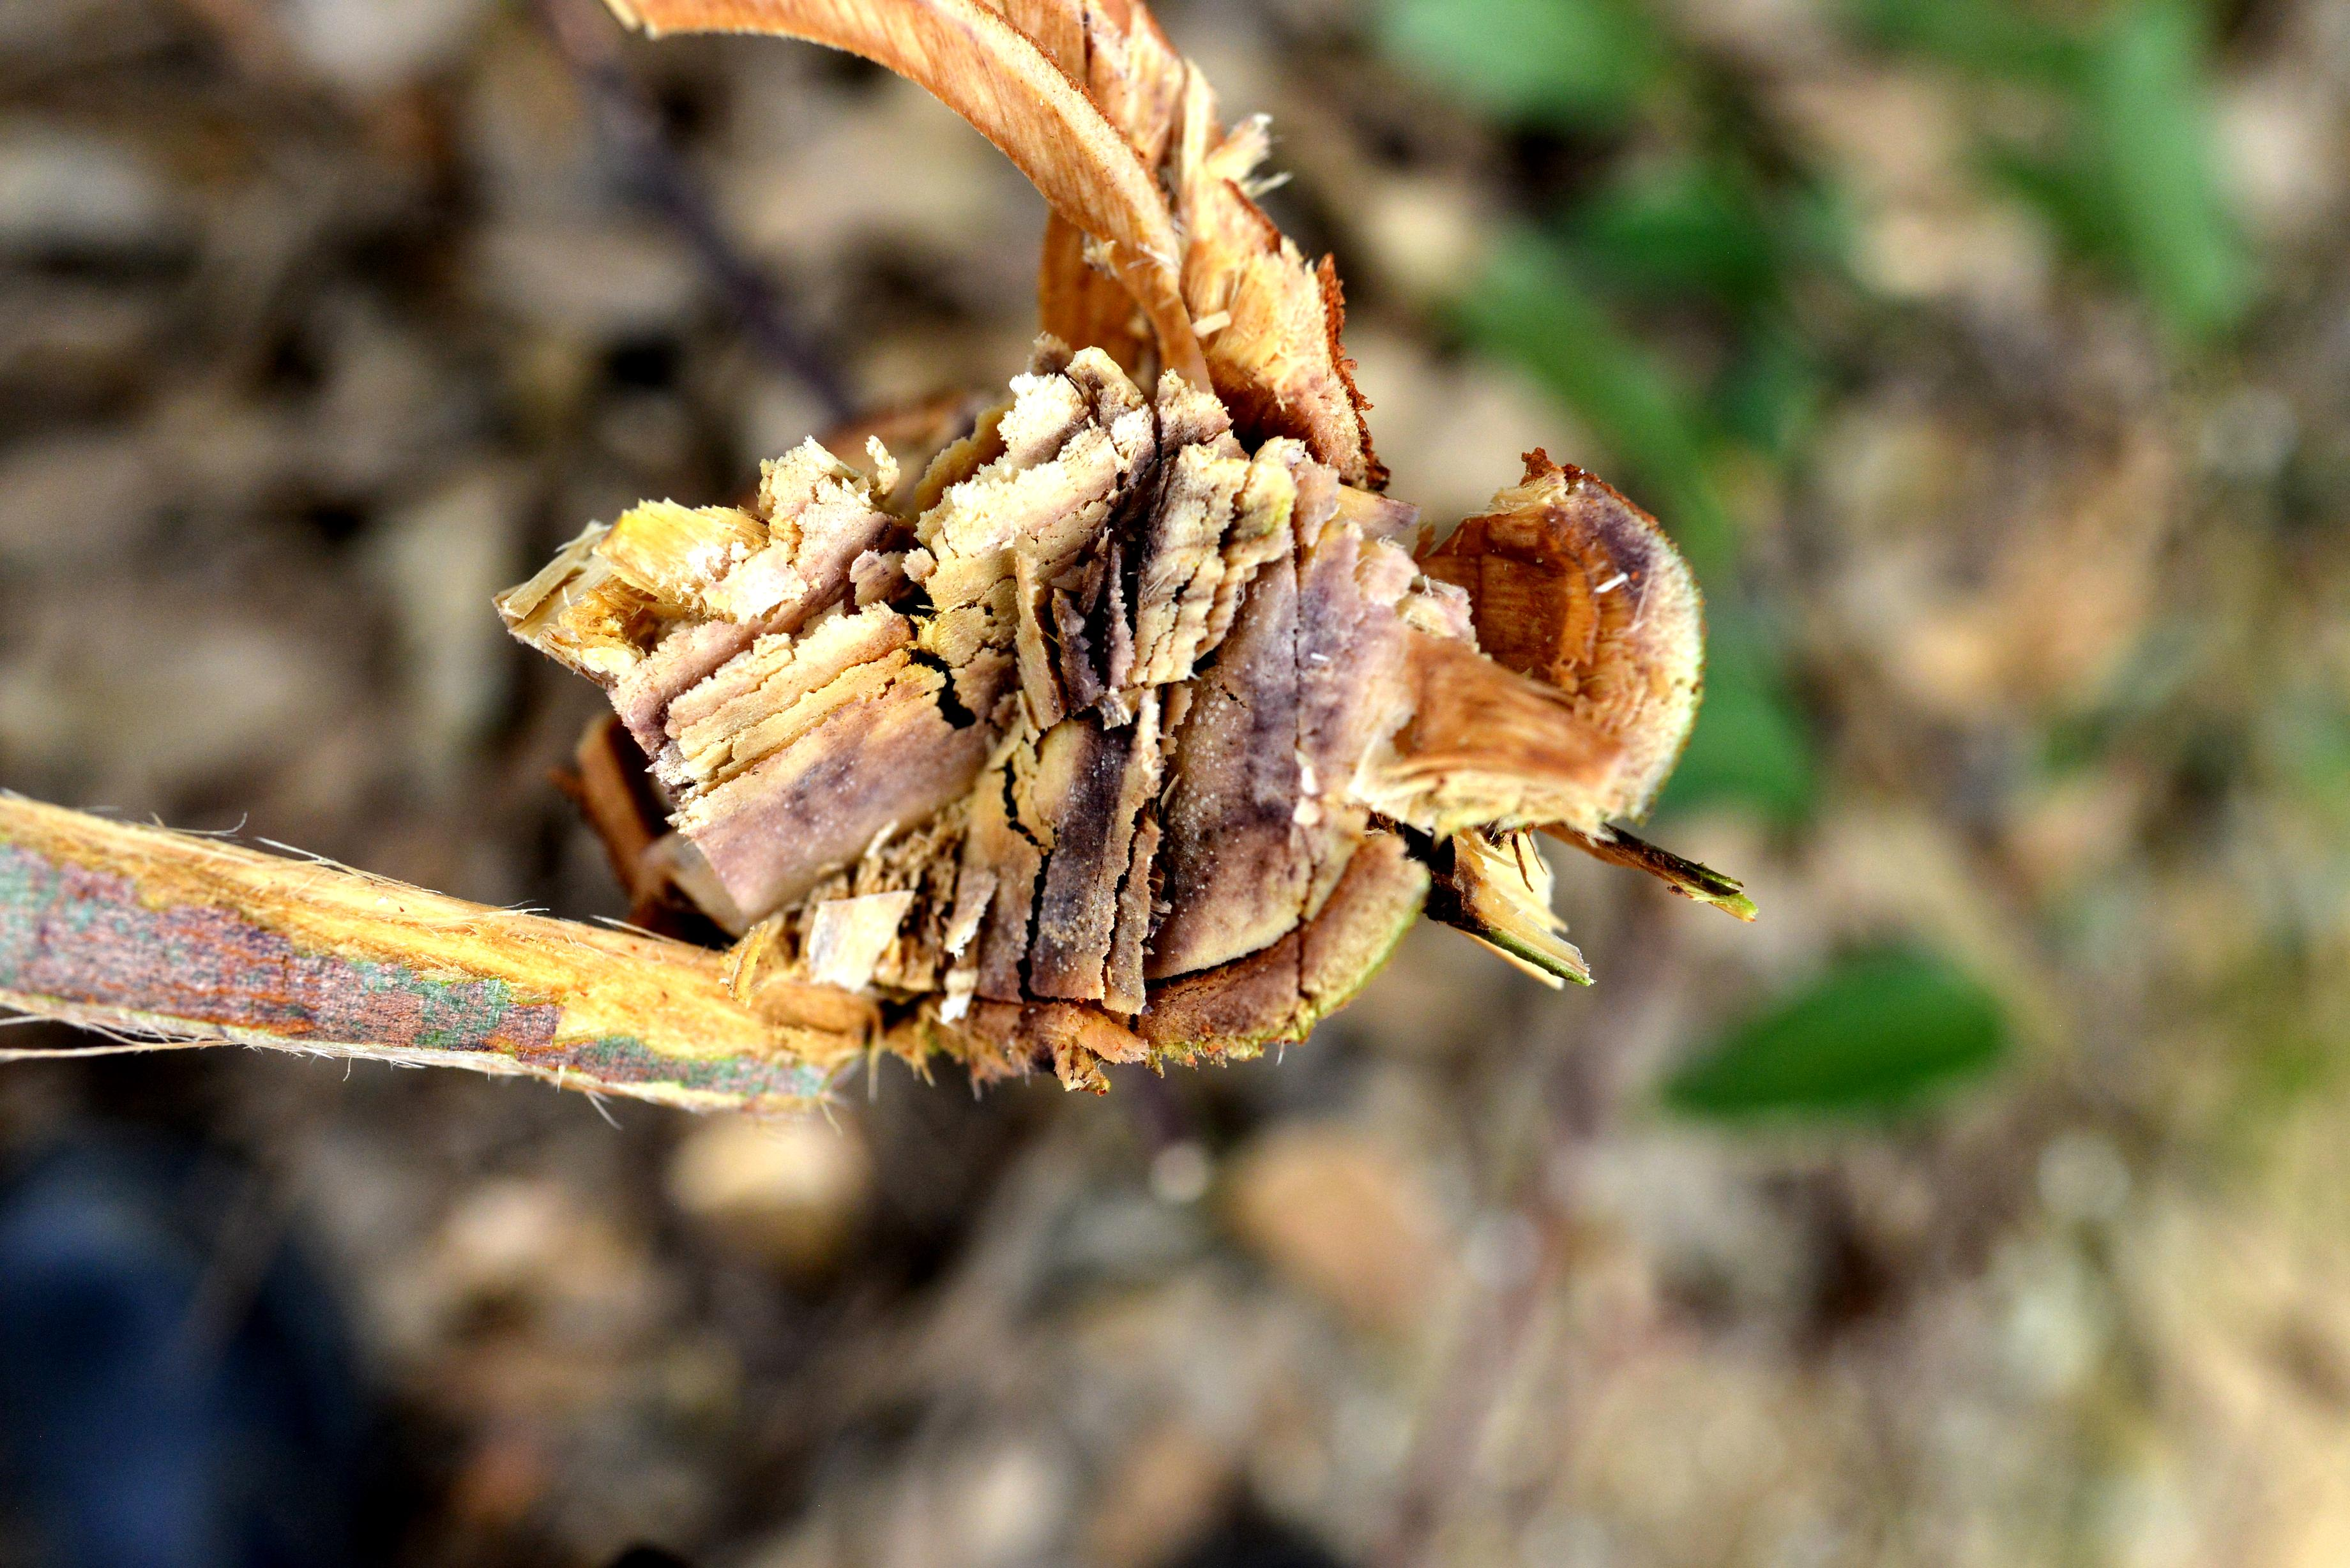Ralstonia: (1172, 500, 1379, 924), (1046, 404, 1162, 1022), (703, 721, 908, 866), (1568, 453, 1661, 623)
